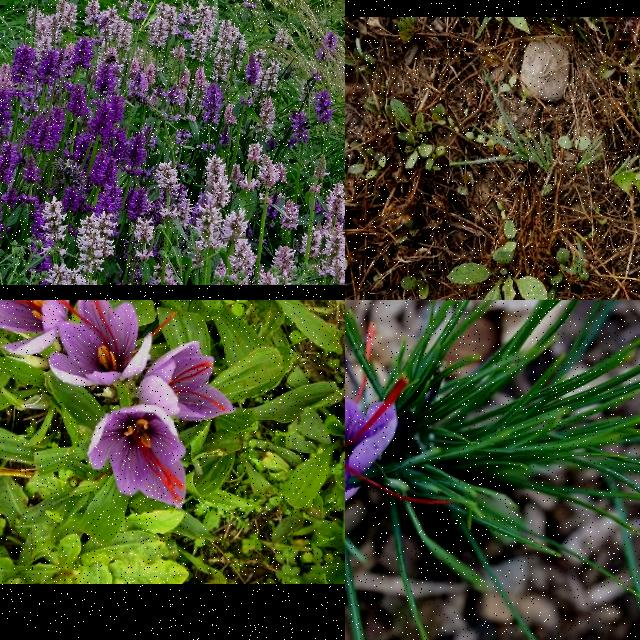flower: (345, 322, 451, 506), (49, 300, 179, 387), (86, 404, 188, 510), (137, 341, 237, 423), (0, 300, 71, 356)
